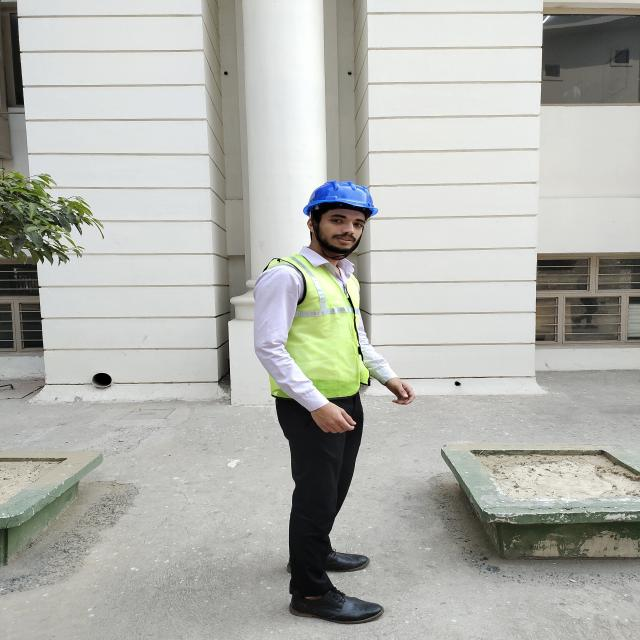safe: (251, 178, 382, 624)
